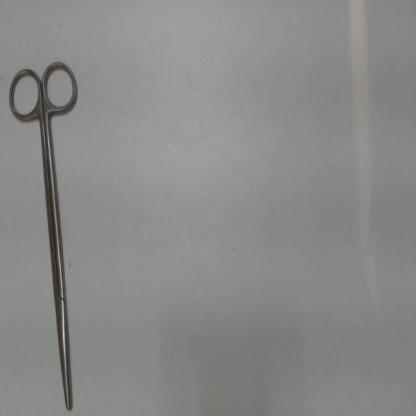9 Metzenbaum Scissors: (4, 53, 84, 415)
